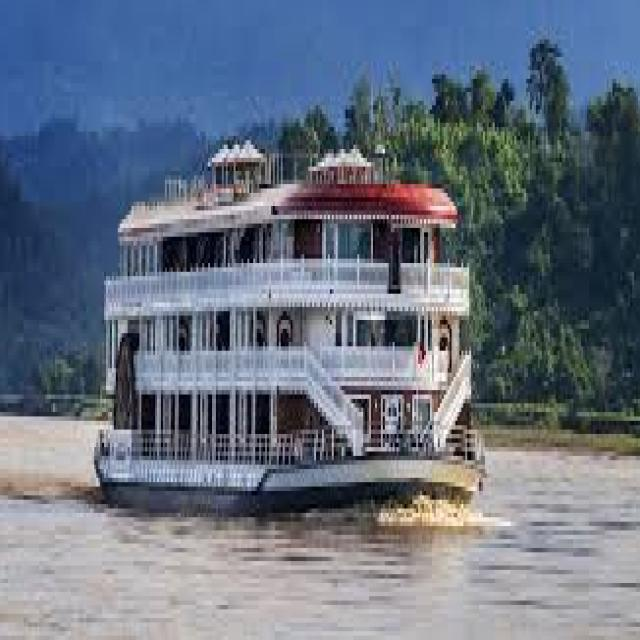houseboat: (90, 79, 495, 511)
